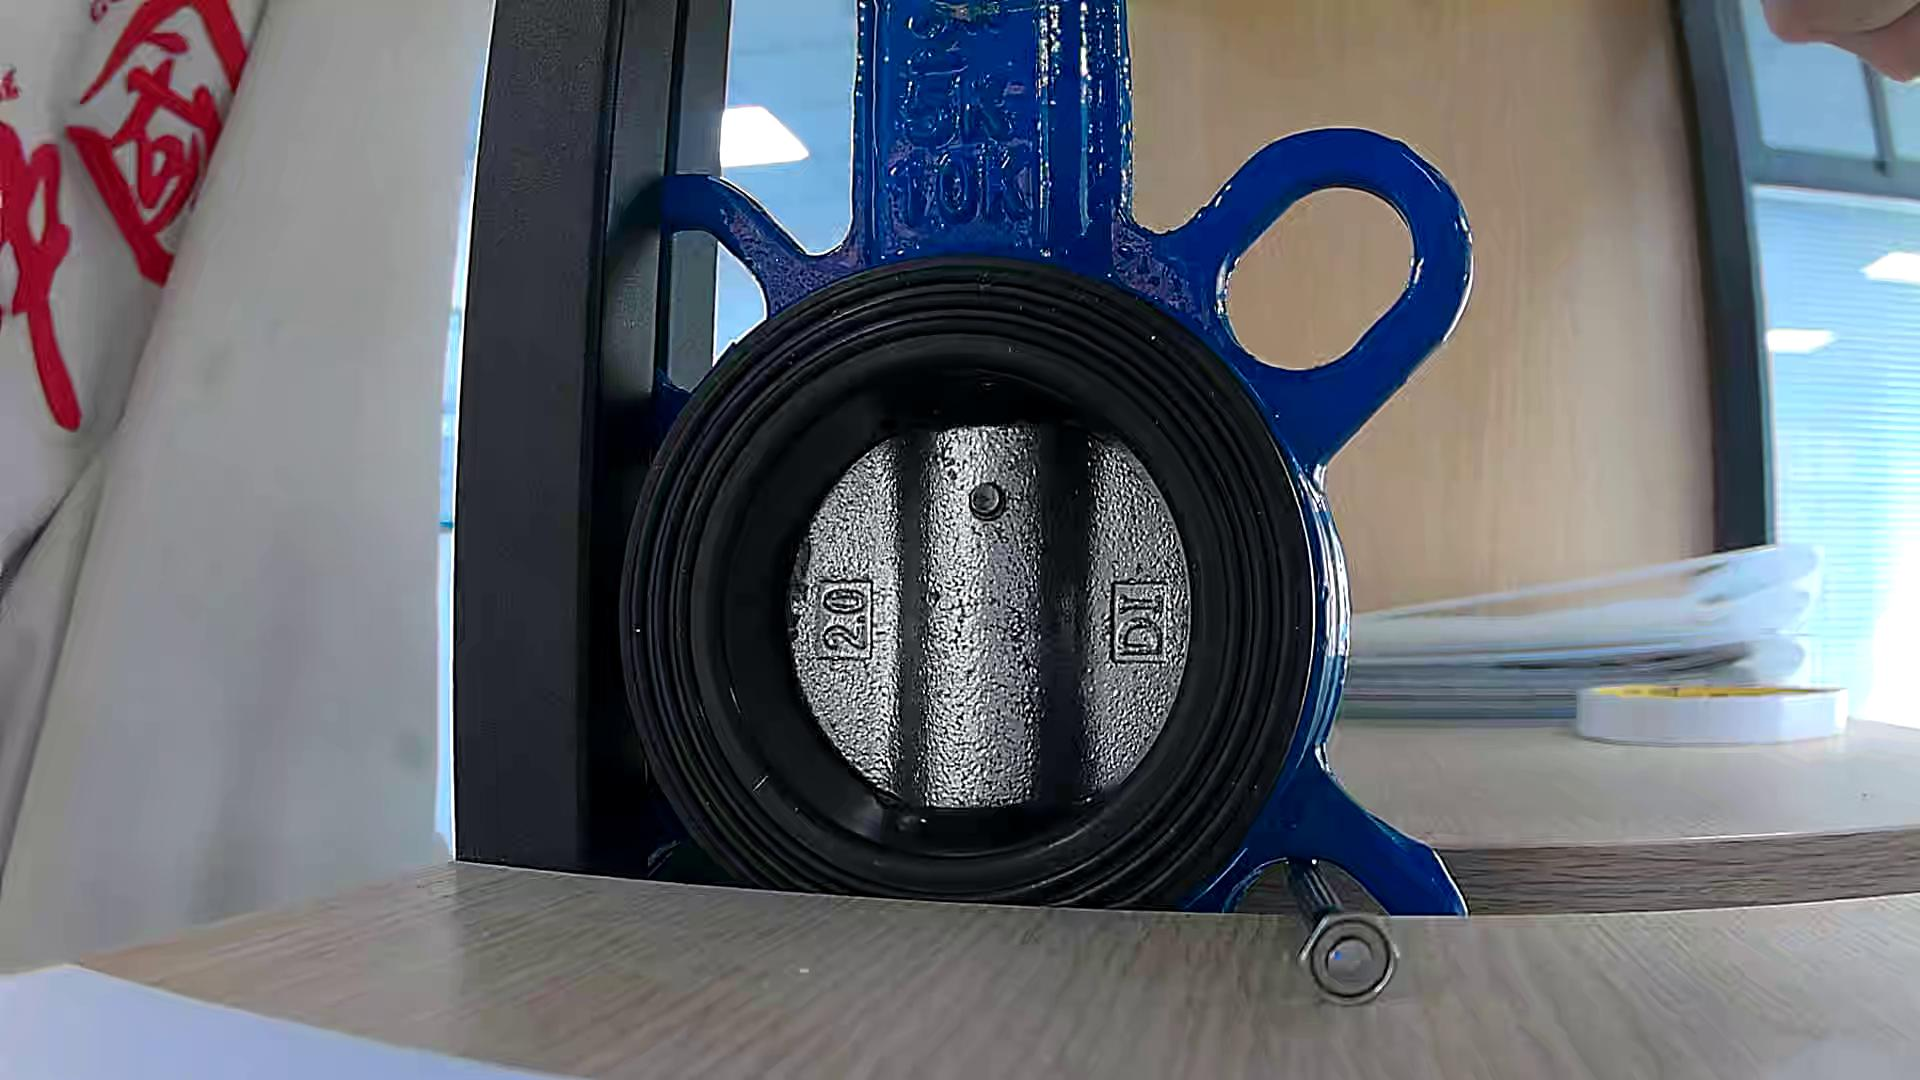valve: (791, 424, 1192, 810)
